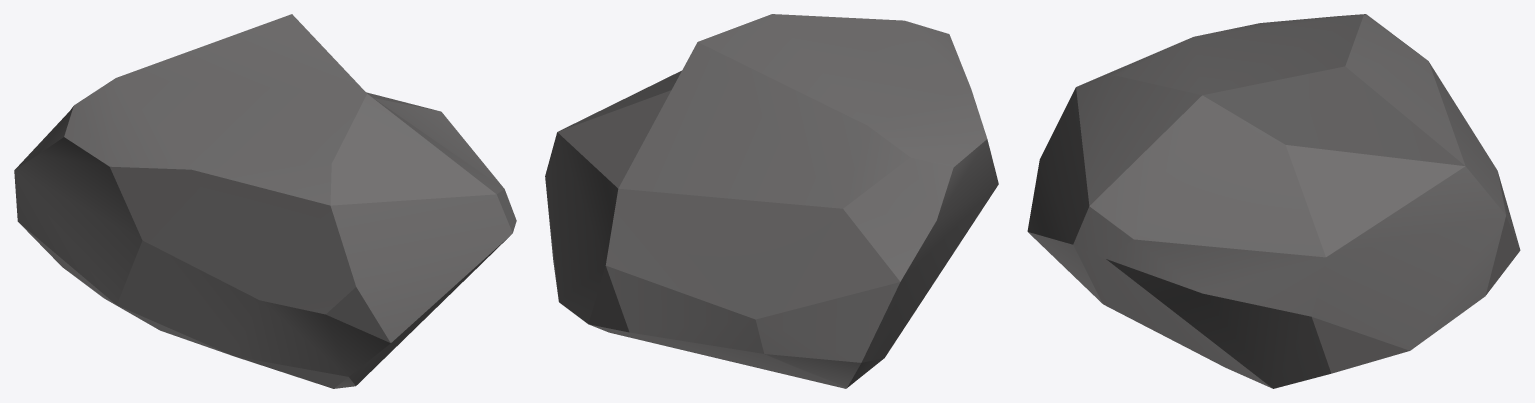
Rendered from RockF.fbx.
3 views of the same model, side by side, from view 1: azimuth 30°, elevation 25°; view 2: azimuth 150°, elevation 25°; view 3: azimuth 270°, elevation 25° (orthographic). The views are drawn at different scales.
Visible parts, largest first — view 1: RockF; view 2: RockF; view 3: RockF.
Part boxes in pixels (x1,y1,x2,y2): RockF: (14, 14, 516, 388); RockF: (545, 14, 998, 388); RockF: (1027, 14, 1520, 388).
Size of the model in its own units: 219 by 155 by 238.
